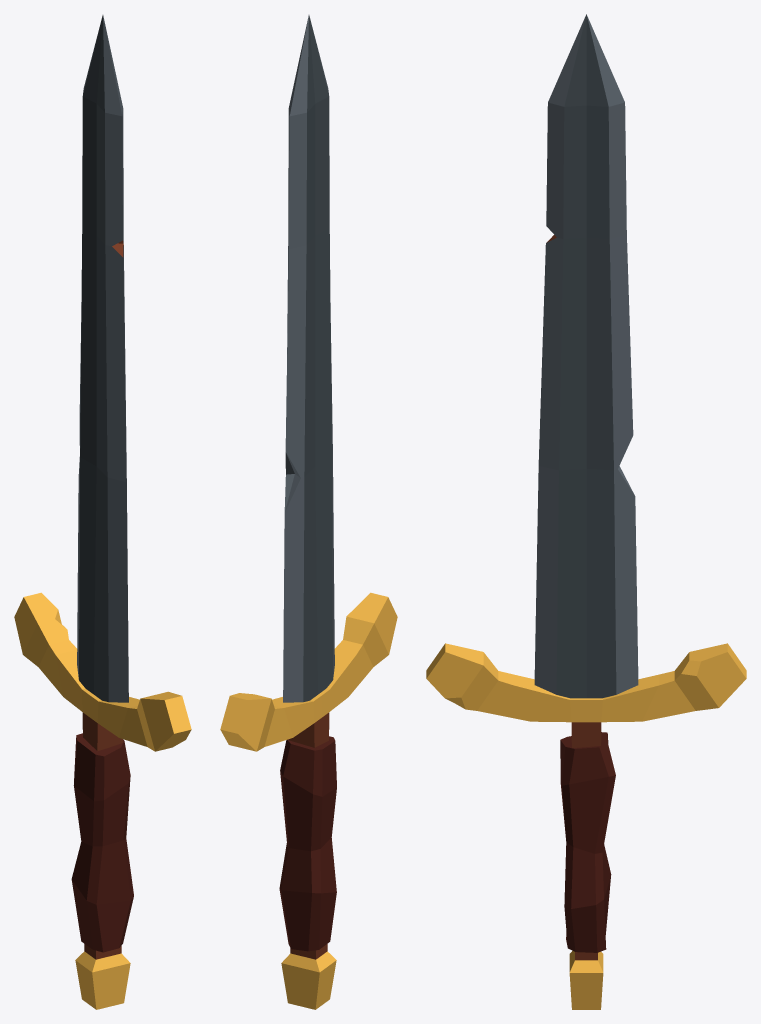
Rendered from longsword.fbx.
3 views of the same model, side by side, from view 1: azimuth 30°, elevation 25°; view 2: azimuth 150°, elevation 25°; view 3: azimuth 270°, elevation 25° (orthographic).
Parts seen in each view (by area): view 1: longsword; view 2: longsword; view 3: longsword.
Part boxes in pixels (box(x1,y1,x2,y2)): longsword: box(14, 15, 191, 1009); longsword: box(220, 15, 397, 1009); longsword: box(426, 14, 746, 1009).
Size of the model in its own units: 4.3 by 86.7 by 25.43.
